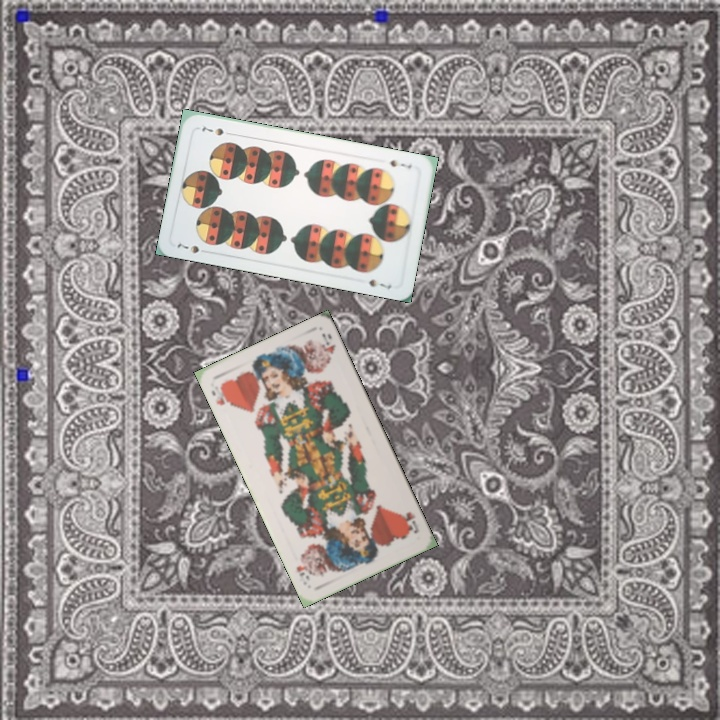HO: (207, 380, 234, 409), (396, 508, 422, 536)
S7: (173, 239, 212, 256), (386, 156, 414, 171)
